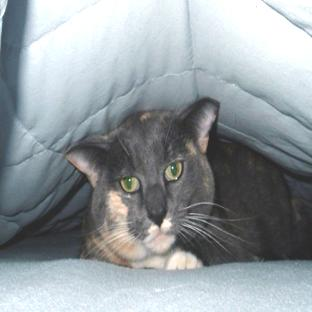Animal: (66, 99, 311, 268)
